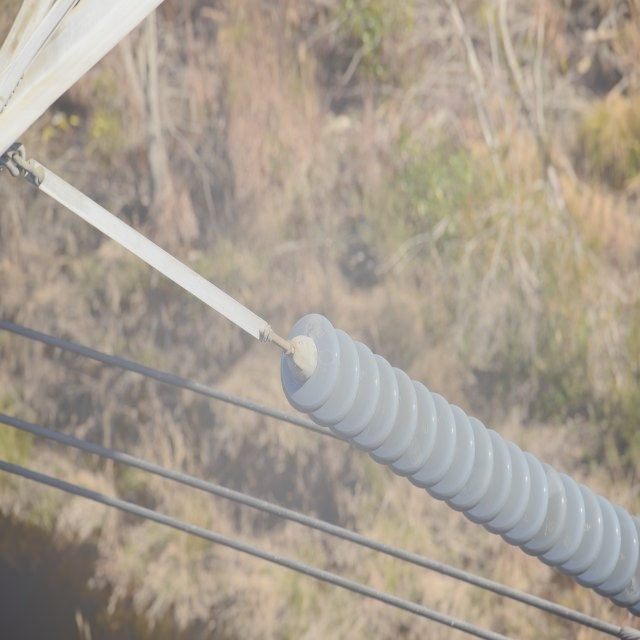insulator: (281, 314, 640, 614)
